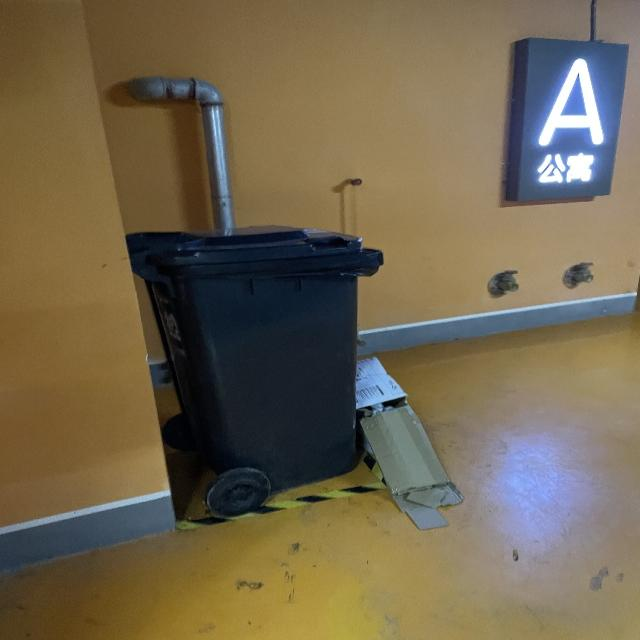garbage: (353, 355, 464, 529)
garbage_bin: (125, 224, 383, 492)
